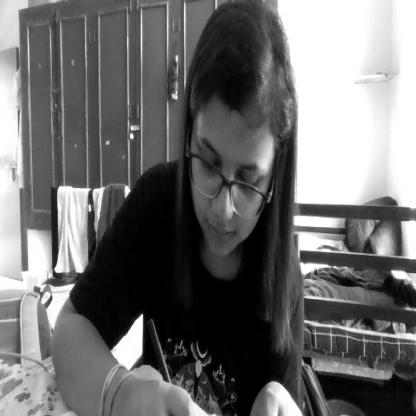Normal: (181, 0, 282, 252)
